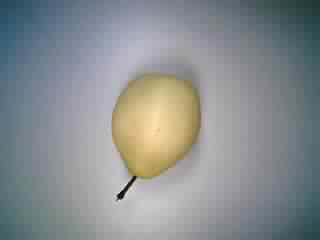pear: (95, 64, 212, 208)
